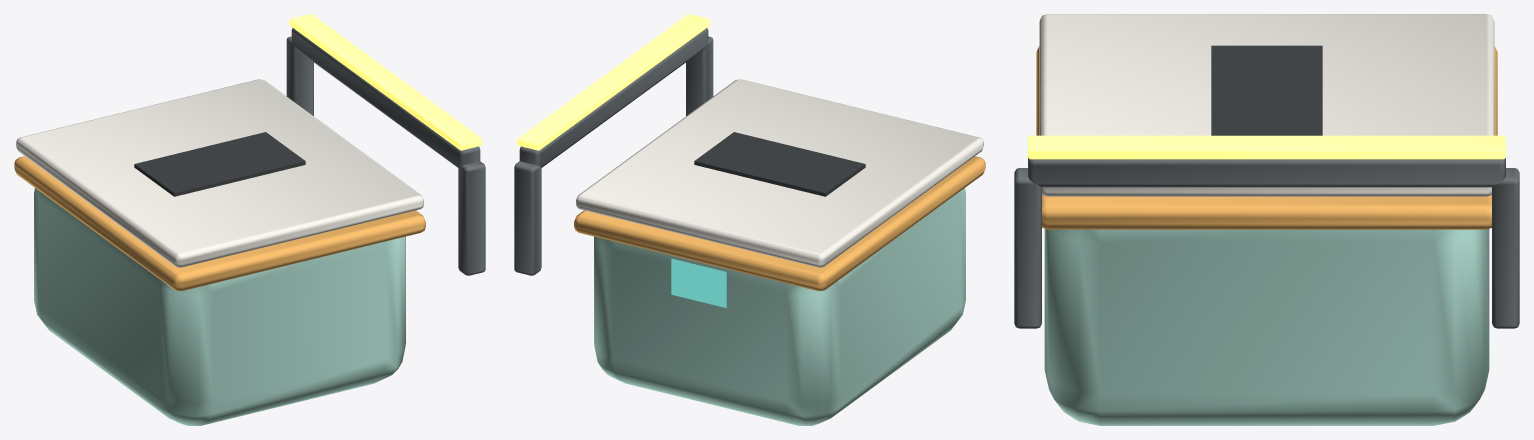
File: llenadora_gradillas.glb
3 renders of one model, left to right at view 1: azimuth 30°, elevation 25°; view 2: azimuth 150°, elevation 25°; view 3: azimuth 270°, elevation 25°, orthographic. The views are drawn at different scales.
Parts seen in each view (by area): view 1: cuerpo, encimera, cinto, hueco, salida_franja, salida_marco, salida_lat-1, salida_lat1; view 2: cuerpo, encimera, cinto, hueco, salida_franja, salida_marco, salida_lat1, pantalla, salida_lat-1; view 3: cuerpo, encimera, cinto, salida_marco, salida_franja, hueco, salida_lat-1, salida_lat1.
Boxes of the visible parts, x1,y1,x2,y2 form: cuerpo: (34, 188, 405, 425); encimera: (16, 79, 423, 267); cinto: (14, 156, 425, 290); hueco: (134, 132, 305, 196); salida_franja: (289, 14, 482, 150); salida_marco: (291, 28, 480, 167); salida_lat-1: (458, 161, 485, 275); salida_lat1: (286, 36, 313, 115); cuerpo: (594, 188, 965, 425); encimera: (576, 79, 983, 267); cinto: (574, 156, 985, 290); hueco: (694, 132, 865, 196); salida_franja: (517, 14, 710, 150); salida_marco: (519, 28, 708, 167); salida_lat1: (514, 161, 541, 275); pantalla: (671, 258, 726, 307); salida_lat-1: (686, 36, 713, 115); cuerpo: (1044, 229, 1489, 425); encimera: (1039, 14, 1494, 196); cinto: (1036, 46, 1497, 229); salida_marco: (1028, 157, 1505, 187); salida_franja: (1028, 135, 1505, 159); hueco: (1211, 45, 1322, 135); salida_lat-1: (1014, 168, 1041, 328); salida_lat1: (1492, 168, 1519, 328).
Bounding box in the file's own units: 0.8775 × 0.66 × 0.91.
